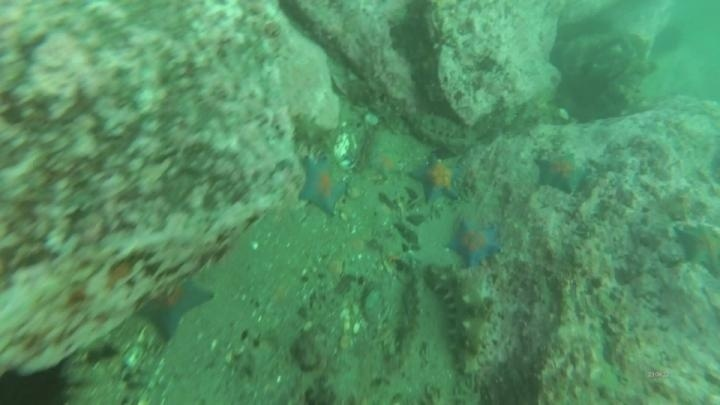echinus: (1, 362, 76, 404), (651, 23, 686, 58)
holothurian: (425, 261, 494, 379)
starfish: (134, 275, 216, 343), (296, 154, 351, 218), (407, 152, 468, 206), (443, 217, 504, 270), (532, 150, 592, 196), (672, 221, 720, 277), (368, 147, 406, 181)
